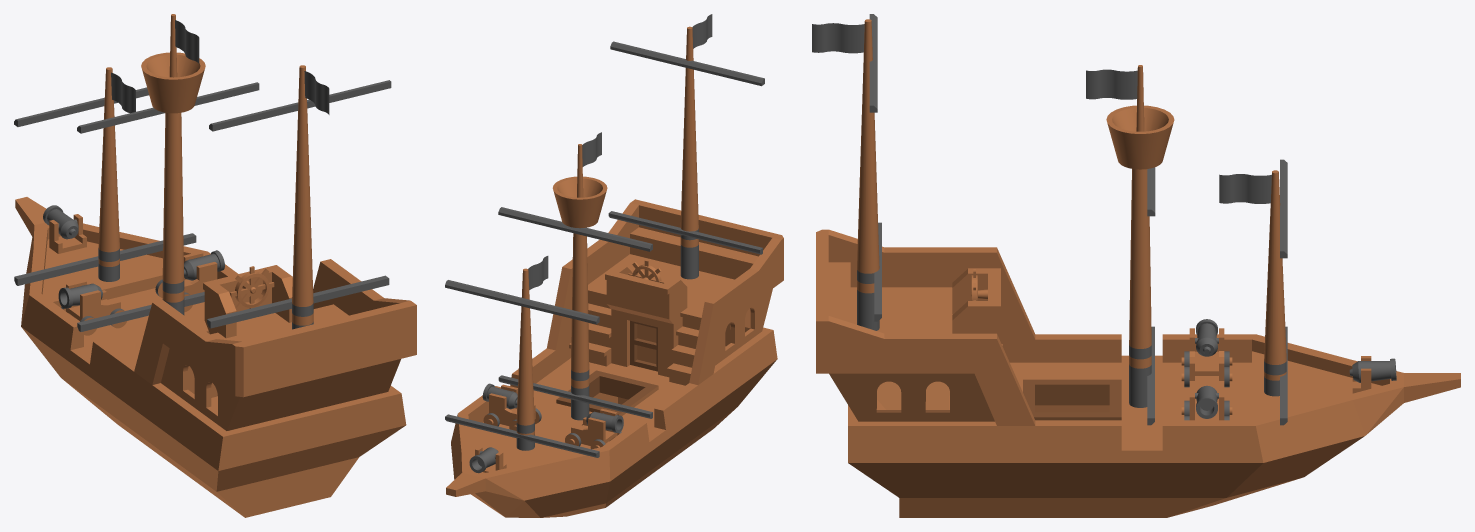
The model's file is Barquiño.fbx.
3 renders of one model, left to right at view 1: azimuth 30°, elevation 25°; view 2: azimuth 150°, elevation 25°; view 3: azimuth 270°, elevation 25°, orthographic. The views are drawn at different scales.
Parts seen in each view (by area): view 1: ship_dark_8angles, sail_back, sail_front, sail_middle, cannon_left (×2), cannon_front (×2), cannon_right (×2), steering; view 2: ship_dark_8angles, sail_back, sail_front, sail_middle, cannon_left (×2), cannon_right (×2), cannon_front, steering; view 3: ship_dark_8angles, cannon_left (×2), sail_back, sail_front, sail_middle, cannon_front.
Boxes of the visible parts, <box> form: ship_dark_8angles: <box>15,14,416,517</box>; sail_back: <box>207,80,391,328</box>; sail_front: <box>14,87,196,285</box>; sail_middle: <box>77,82,259,331</box>; cannon_left (×2): <box>58,280,120,320</box>; cannon_front (×2): <box>43,205,86,253</box>; cannon_right (×2): <box>183,250,224,294</box>; steering: <box>230,266,274,310</box>; ship_dark_8angles: <box>446,14,783,517</box>; sail_back: <box>608,41,764,254</box>; sail_front: <box>445,280,599,457</box>; sail_middle: <box>498,207,652,418</box>; cannon_left (×2): <box>571,408,623,445</box>; cannon_right (×2): <box>482,383,535,425</box>; cannon_front: <box>469,447,498,473</box>; steering: <box>628,260,665,283</box>; ship_dark_8angles: <box>812,19,1460,517</box>; cannon_left (×2): <box>1189,319,1224,380</box>; sail_back: <box>869,14,881,321</box>; sail_front: <box>1280,159,1287,425</box>; sail_middle: <box>1147,167,1155,425</box>; cannon_front: <box>1349,358,1396,382</box>.
Bounding box in the file's own units: 1122 × 2577 × 3188.
